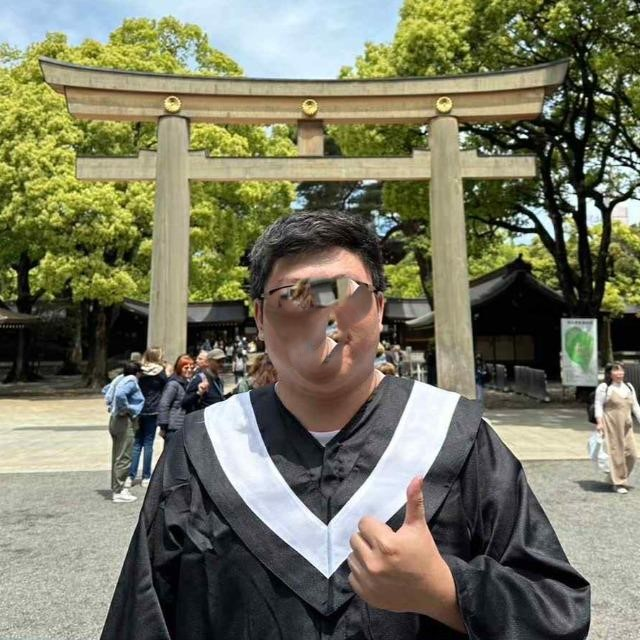NoHelmet: (239, 209, 391, 400)
